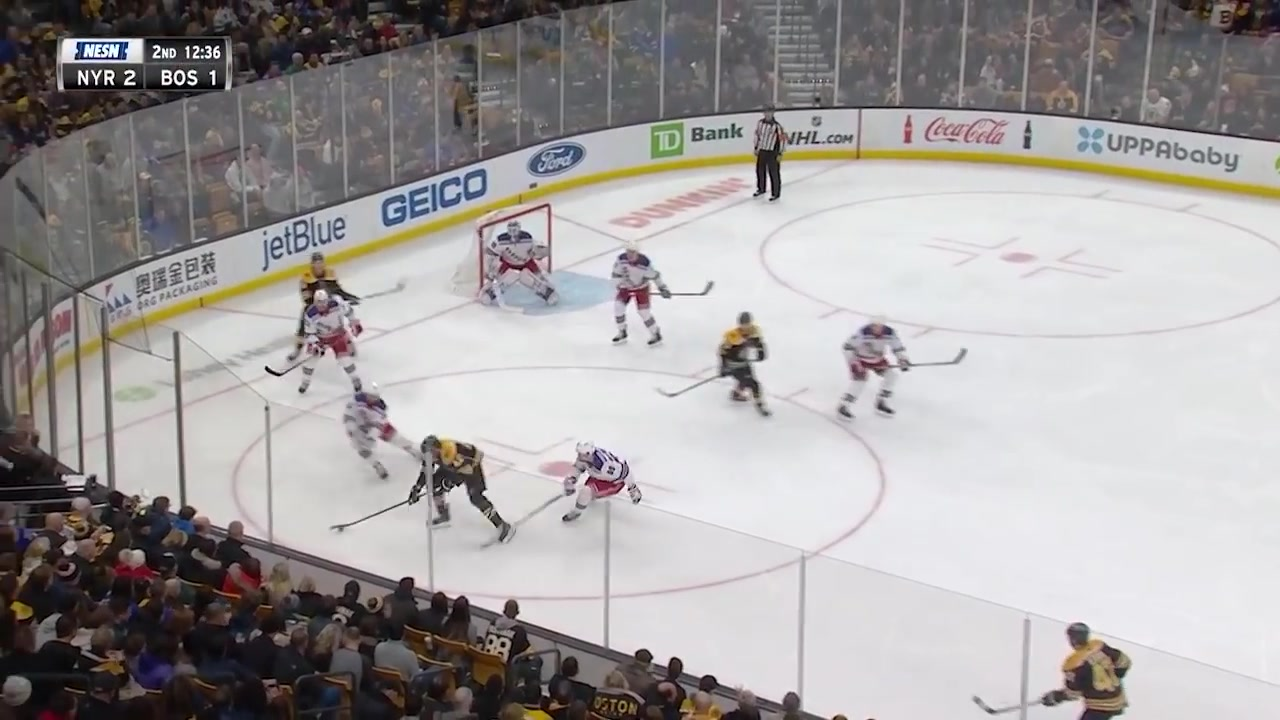Geico: (373, 165, 494, 227)
